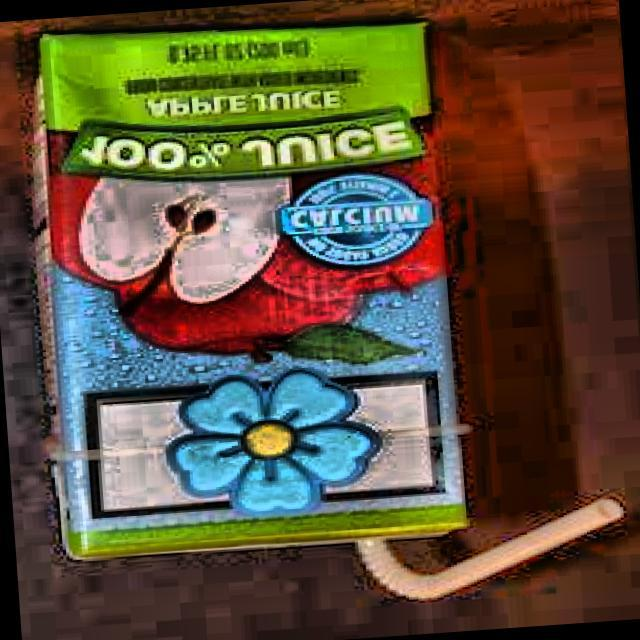cardboard: (18, 10, 474, 565)
